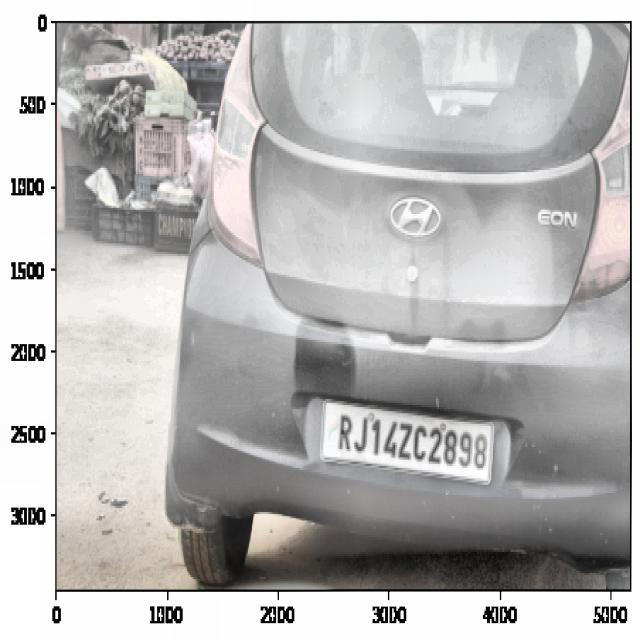license_plate: (331, 404, 492, 478)
